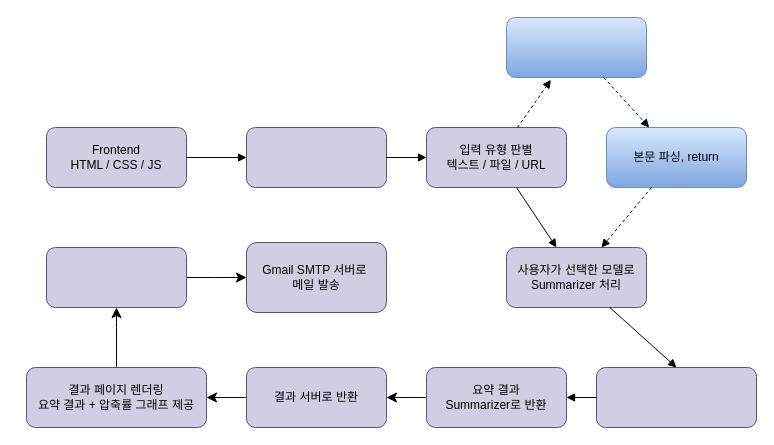
Image size: 774x445. Some labels were removed from this diagram. The shapes that lost their labels are listed below. From the top down, each one's box as (x1, y1, x2, y2) in pixels, then its label:
(506, 16, 646, 78): URL 입력 시 언론사 파서 extractors - parser 실행
(246, 126, 386, 188): Flask 서버 요청 /start-summary
(46, 246, 186, 308): 이메일 발송 요청
(596, 366, 756, 428): LLM API 호출 PerplexityI / Together / 그 외
